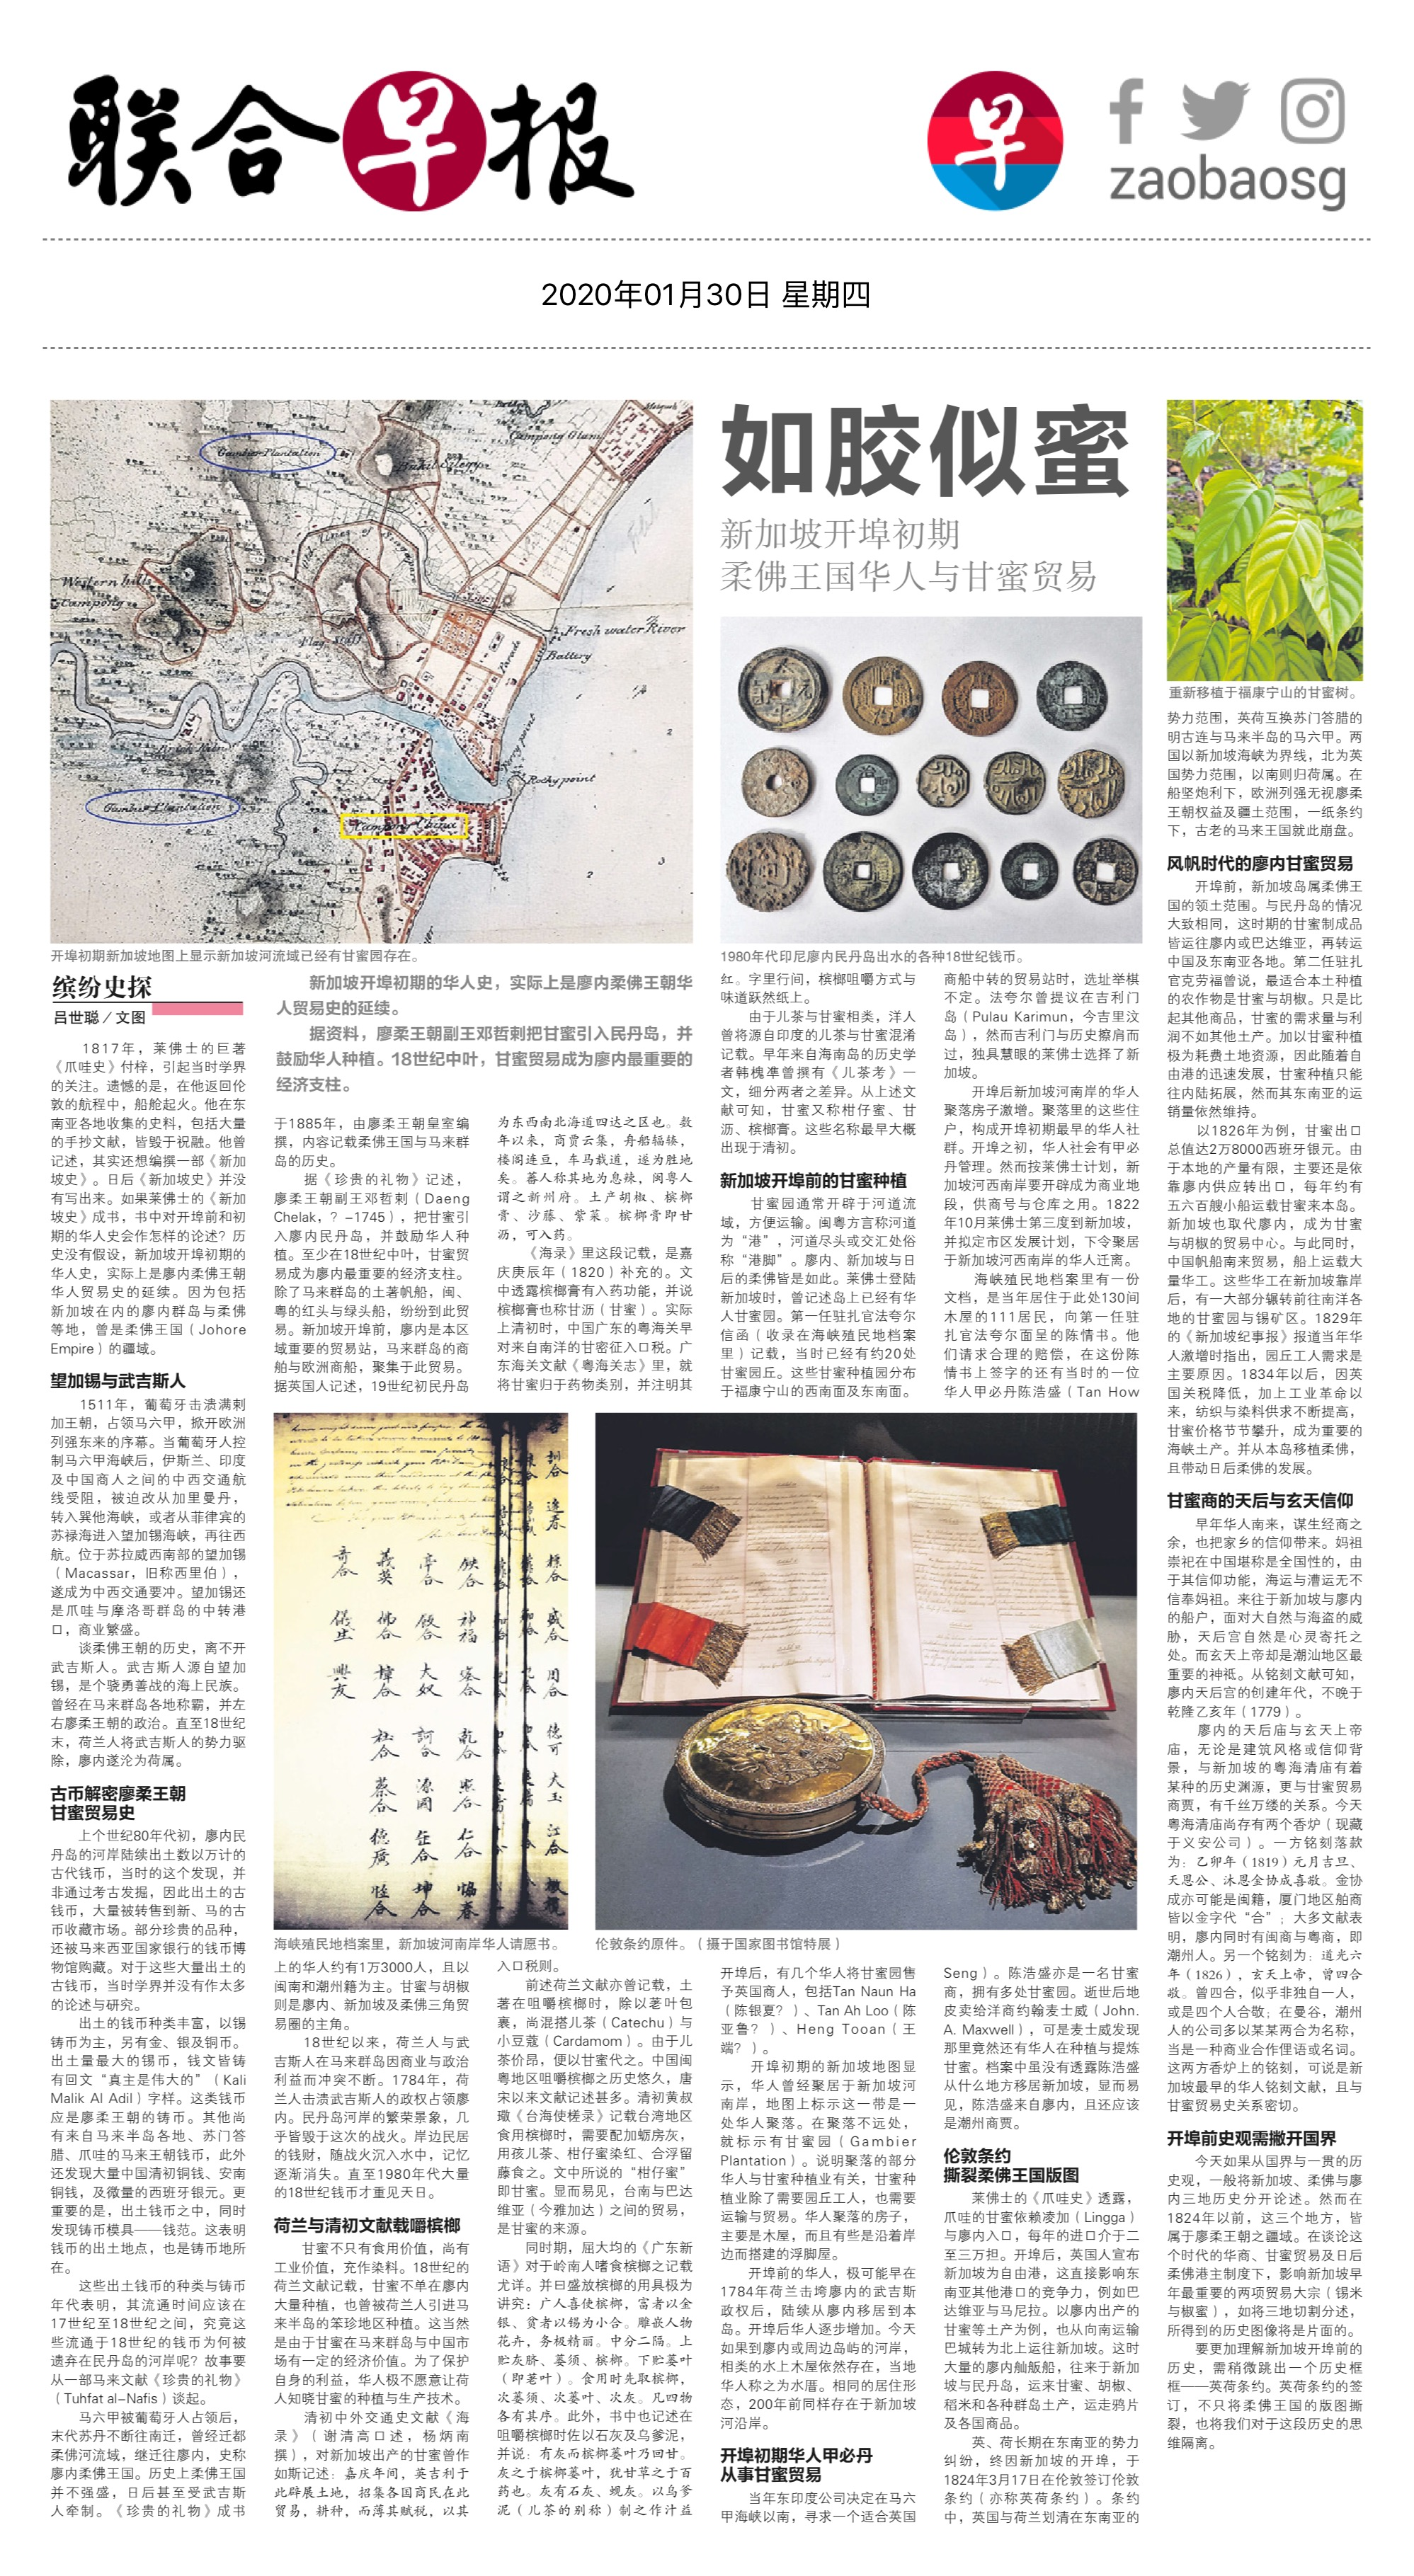heading_test: (710, 390, 1141, 512)
